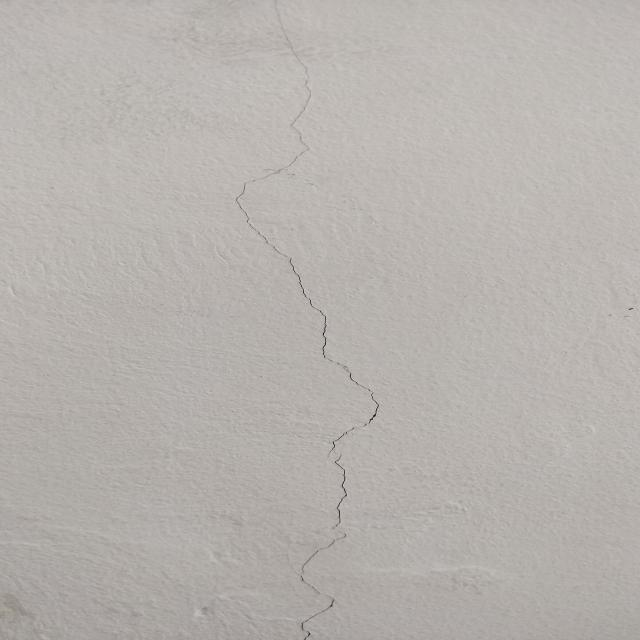Crack: (216, 5, 396, 640)
